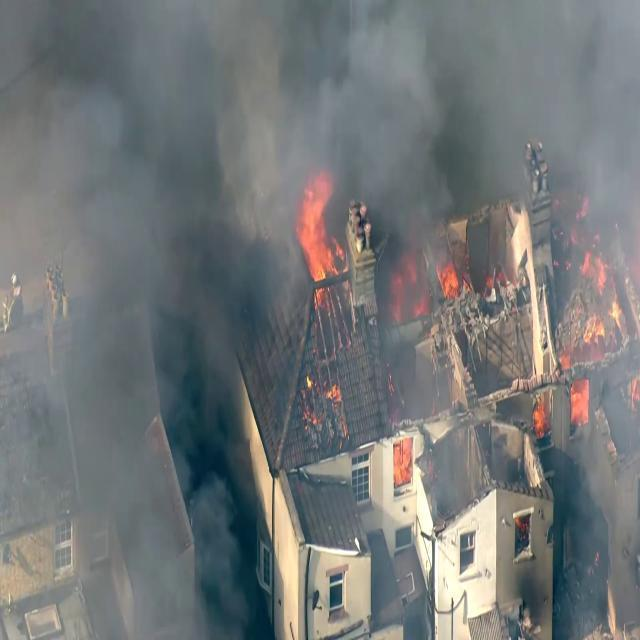Fire: (292, 150, 345, 279)
Smoke: (0, 1, 192, 217)
